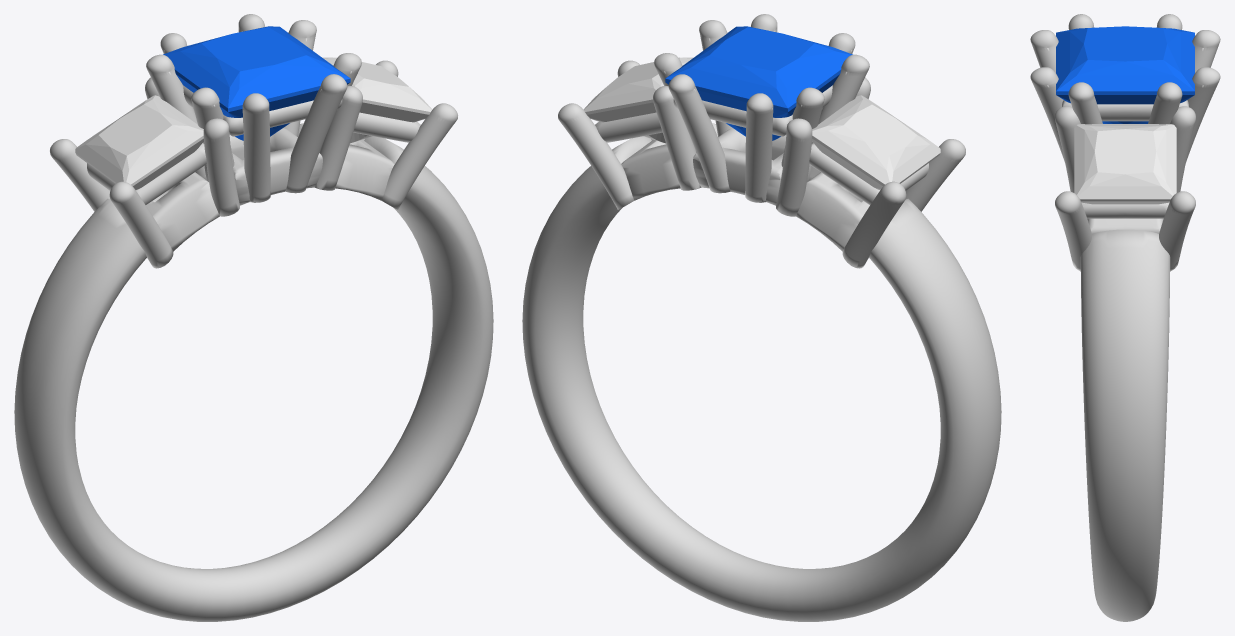
File: bluesapphire-princess-platinum-8prong-taperedband-3stone.glb
3 renders of one model, left to right at view 1: azimuth 30°, elevation 25°; view 2: azimuth 150°, elevation 25°; view 3: azimuth 270°, elevation 25°, orthographic.
Parts seen in each view (by area): view 1: metal, stone, side, side.001; view 2: metal, stone, side, side.001; view 3: metal, stone, side.001.
Boxes of the visible parts, x1,y1,x2,y2 form: metal: (14,14,493,621); stone: (163,26,350,140); side: (75,95,203,189); side.001: (322,57,432,143); metal: (522,14,1001,621); stone: (665,26,852,140); side: (812,95,940,189); side.001: (583,57,693,143); metal: (1030,14,1220,621); stone: (1056,26,1194,123); side.001: (1074,124,1176,204).
Bounding box in the file's own units: 20.5 × 23.84 × 7.42.
